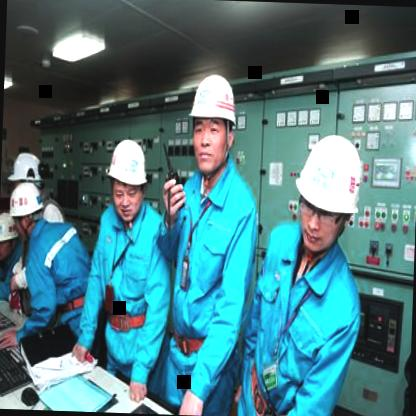helmet: (288, 122, 367, 256), (189, 67, 245, 182), (104, 132, 151, 220), (6, 151, 44, 210), (8, 179, 42, 236), (0, 210, 17, 259)
